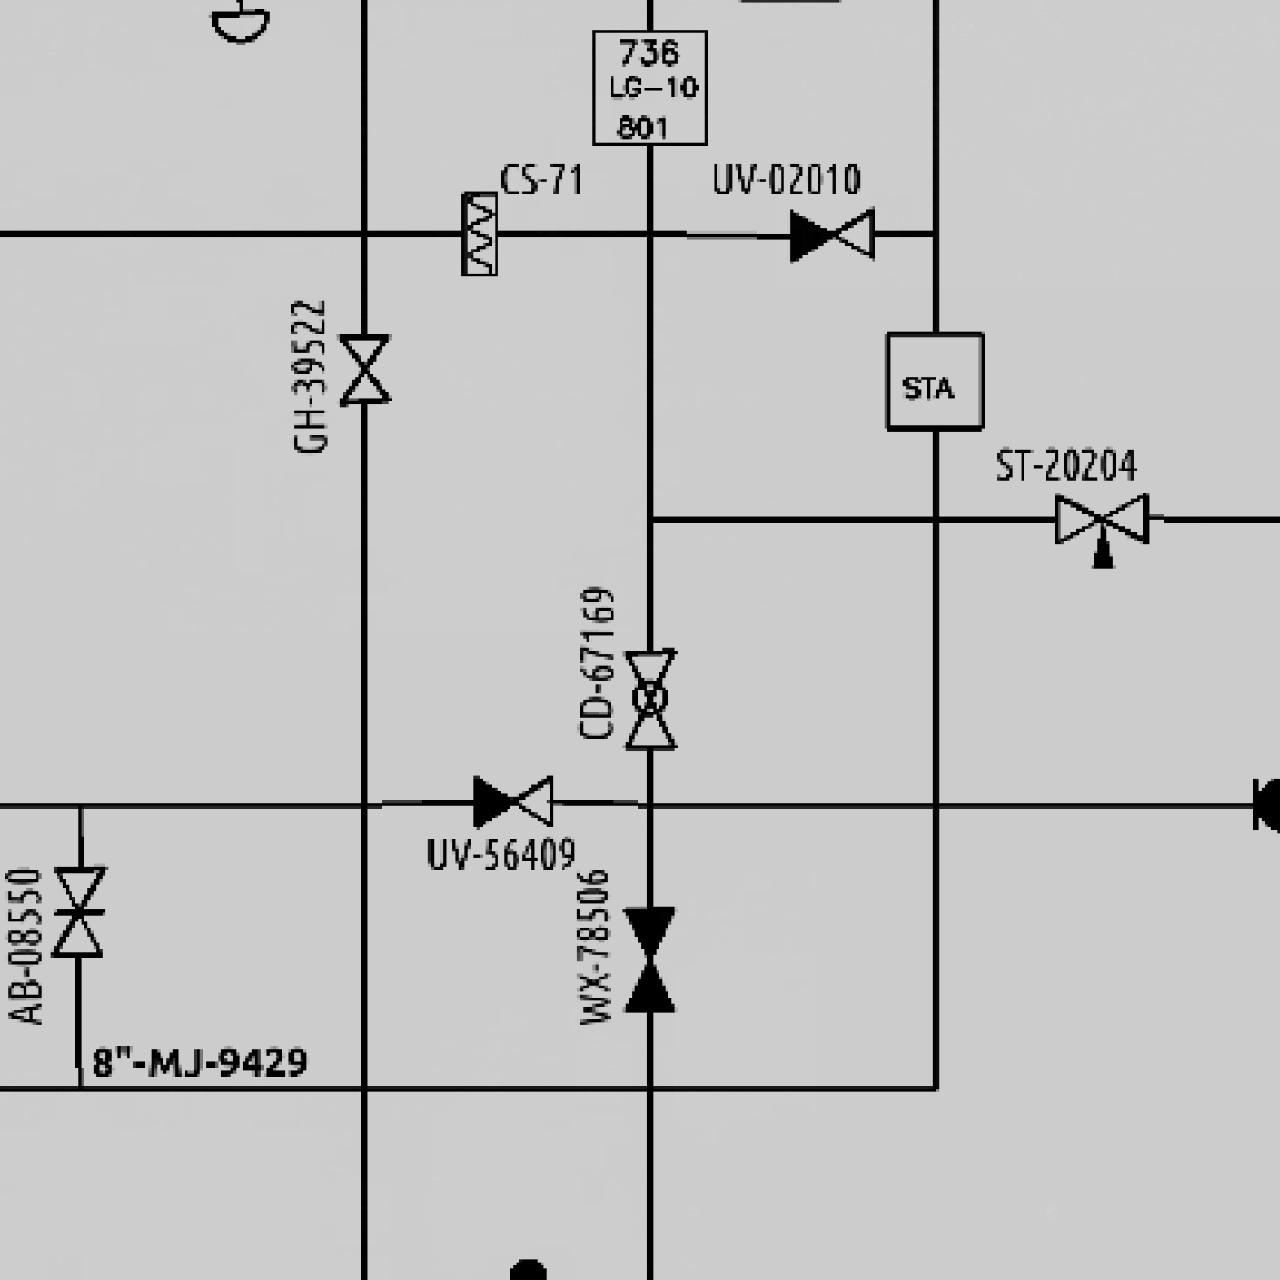Half closed valve: (784, 202, 879, 265), (469, 770, 556, 831)
